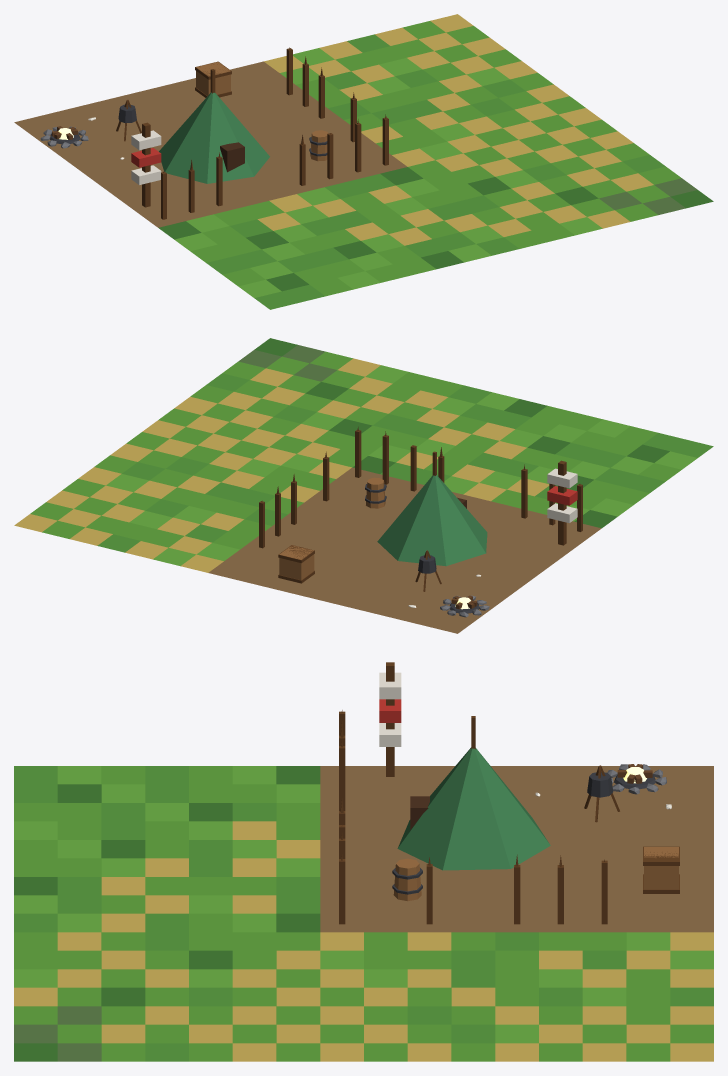
Rendered from chunk_7_8.glb.
3 views of the same model, one above another, from view 1: azimuth 30°, elevation 25°; view 2: azimuth 150°, elevation 25°; view 3: azimuth 270°, elevation 25° (orthographic). The views are drawn at different scales.
Visible parts, largest first — view 1: chunk_7_8; view 2: chunk_7_8; view 3: chunk_7_8.
Part boxes in pixels (<box>): chunk_7_8: <box>14,14,713,309</box>; chunk_7_8: <box>14,338,713,633</box>; chunk_7_8: <box>14,662,713,1061</box>.
Bounding box in the file's own units: 16 × 3.25 × 16.
